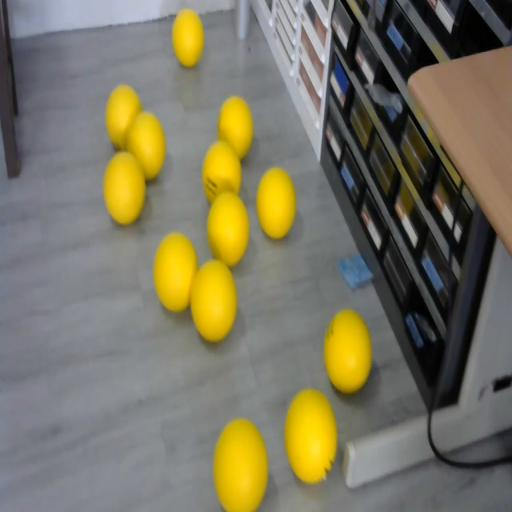FUEL: (284, 387, 338, 483), (212, 418, 266, 509), (189, 258, 238, 343), (323, 310, 371, 394), (152, 230, 199, 312), (206, 191, 250, 266), (103, 152, 146, 224), (256, 167, 296, 238), (218, 95, 254, 159), (106, 85, 142, 149), (172, 7, 204, 68)
